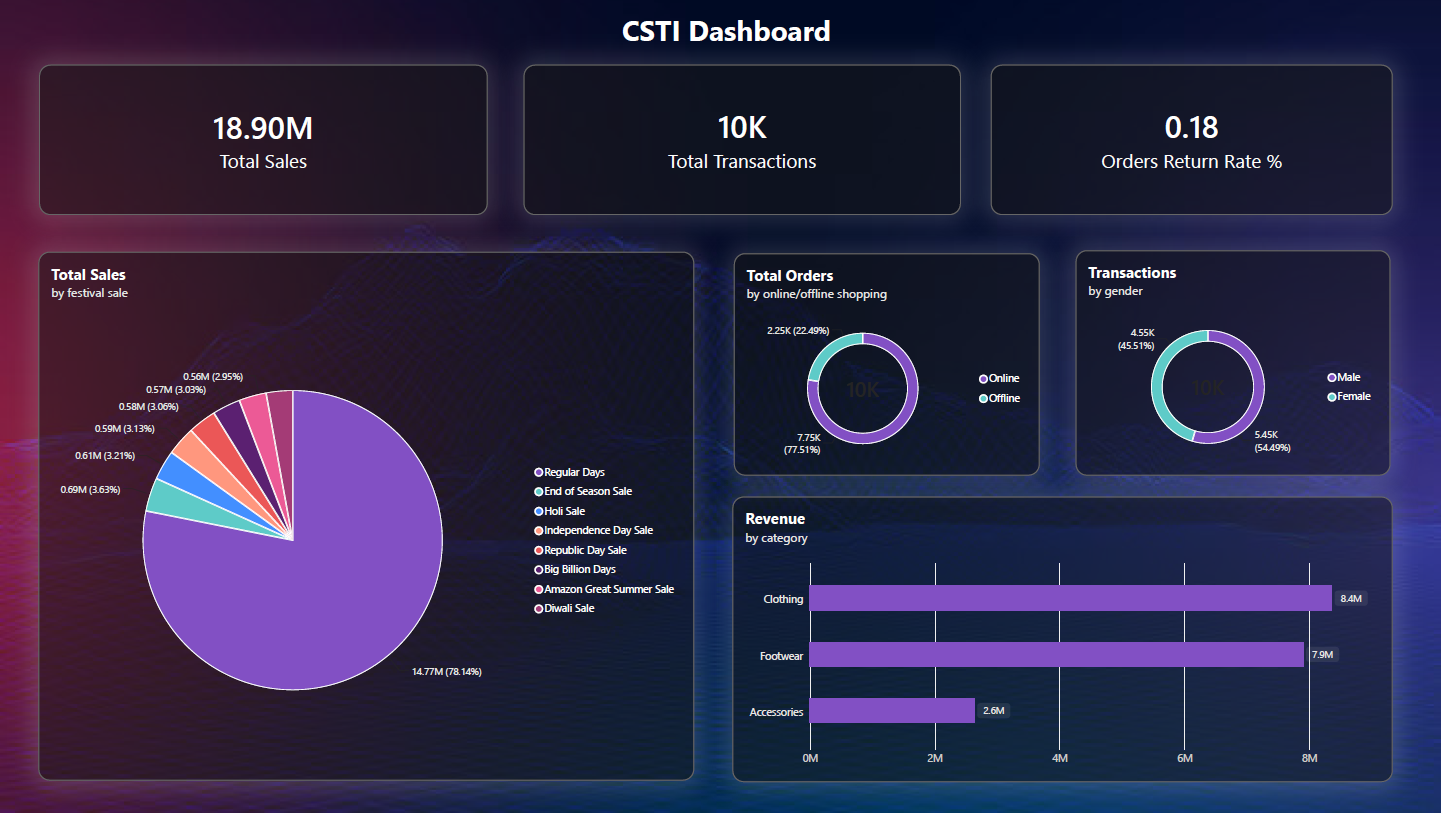

The dashboard page shown, as its layout file describes it:
{"tool":"powerbi","page":{"name":"Page 1","canvas":[1920,1080],"ordinal":0},"visuals":[{"type":"cardVisual","fields":{"Data":["Sum(gold fact_transactions.purchase_amount_inr)"]},"box":[52.5,85,597.5,200],"z":0},{"type":"cardVisual","fields":{"Data":["Count(gold fact_transactions.transaction_id)"]},"box":[697.5,85,582.5,200],"z":1000},{"type":"clusteredBarChart","fields":{"Category":["gold dim_products.category"],"Y":["Sum(gold fact_transactions.purchase_amount_inr)"]},"box":[975.9,660.3,878.9,379.2],"z":2000},{"type":"donutChart","fields":{"Category":["gold fact_transactions.online_offline"],"Y":["CountNonNull(gold fact_transactions.transaction_id)"]},"box":[977.9,335.9,407.5,296.1],"z":3000},{"type":"donutChart","fields":{"Category":["gold dim_customers.gender"],"Y":["CountNonNull(gold fact_transactions.transaction_id)"]},"box":[1433,331.9,419.4,300.1],"z":4000},{"type":"pieChart","fields":{"Category":["gold fact_transactions.festival_sale"],"Y":["Sum(gold fact_transactions.purchase_amount_inr)"]},"box":[52.1,333.9,873.3,703.6],"z":5000},{"type":"cardVisual","fields":{"Data":["gold fact_transactions.Return Rate %"]},"box":[1320,85,535,200],"z":6000},{"type":"textbox","title":"CSTI Dashboard","box":[752.5,0,430,85],"z":7000}]}

Visuals, with their boxes in screenshot pixels (x1, y1, x2, y2), scaled from the page's 1920x1080 canvas onto the 1441x813 screenshot:
cardVisual - Sum(gold fact_transactions.purchase_amount_inr): region(39, 64, 488, 215)
cardVisual - Count(gold fact_transactions.transaction_id): region(523, 64, 961, 215)
clusteredBarChart - gold dim_products.category x Sum(gold fact_transactions.purchase_amount_inr): region(732, 497, 1392, 783)
donutChart - gold fact_transactions.online_offline x CountNonNull(gold fact_transactions.transaction_id): region(734, 253, 1040, 476)
donutChart - gold dim_customers.gender x CountNonNull(gold fact_transactions.transaction_id): region(1075, 250, 1390, 476)
pieChart - gold fact_transactions.festival_sale x Sum(gold fact_transactions.purchase_amount_inr): region(39, 251, 695, 781)
cardVisual - gold fact_transactions.Return Rate %: region(991, 64, 1392, 215)
"CSTI Dashboard" textbox: region(565, 0, 887, 64)
